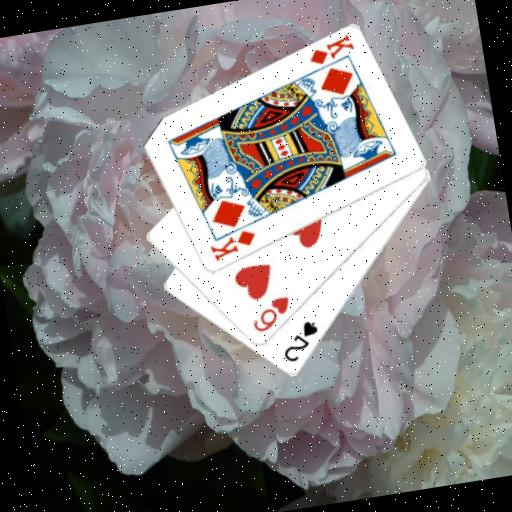2S: (276, 316, 324, 366)
6H: (246, 293, 295, 336)
KD: (205, 225, 260, 263), (303, 30, 357, 68)
